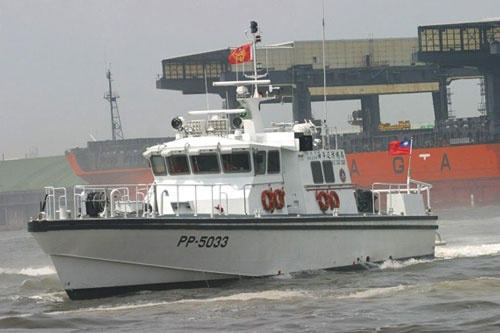otherboat: (23, 68, 436, 300)
